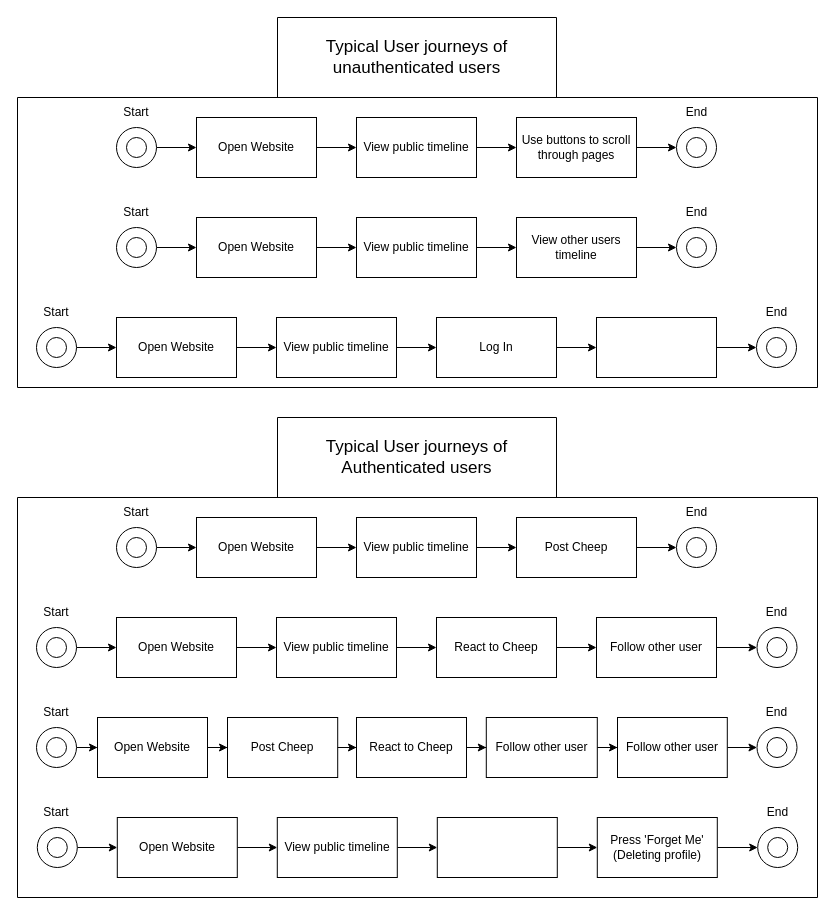
Some shapes in this 836 by 916 pixel diagram are drawn without their labels. The centre of each missing label's shape, as x and y in pixels:
"View 'About Me' page" goes at (496,847).
"View public timeline (Now authenticated)" goes at (656,347).
